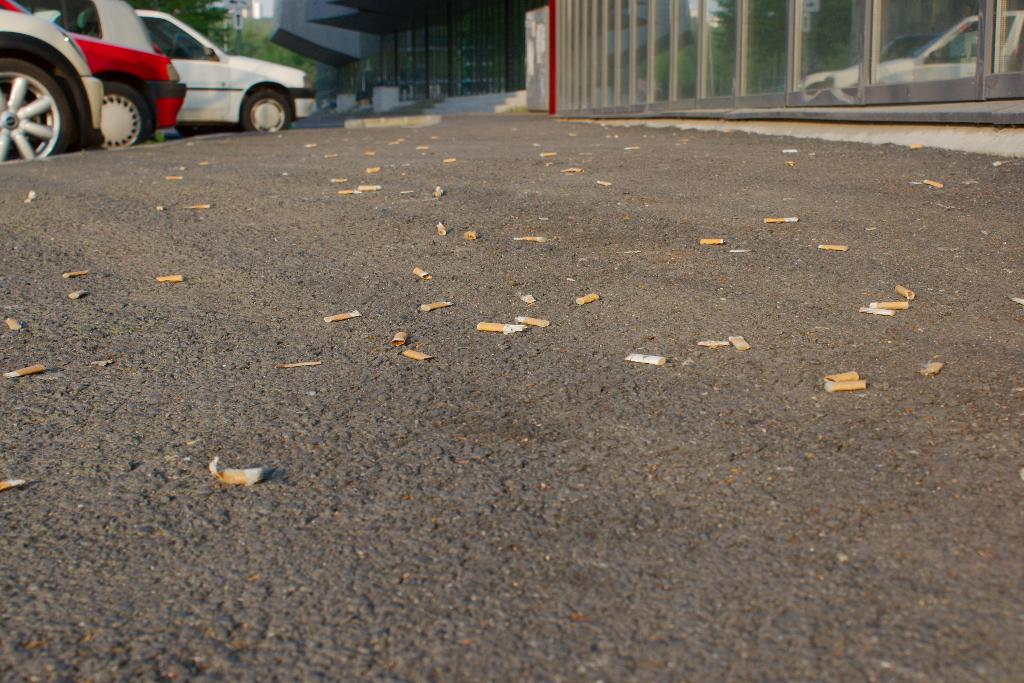cars: (31, 8, 316, 131), (0, 0, 186, 150), (0, 7, 100, 162), (10, 0, 155, 53)
